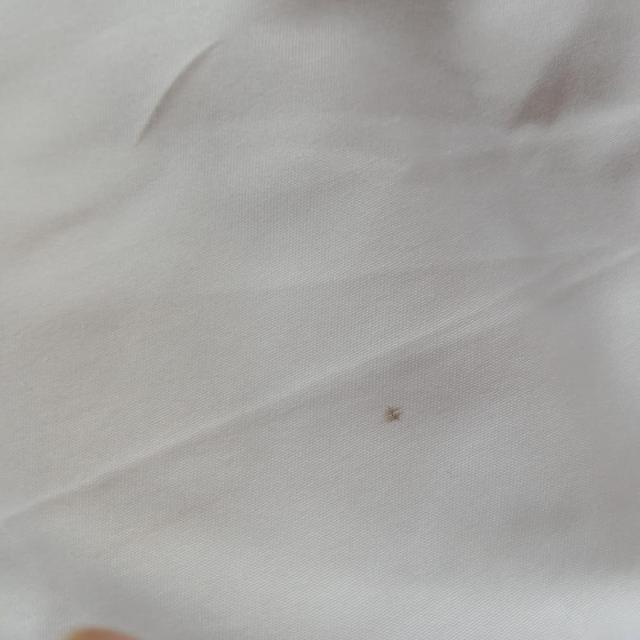stain: (44, 610, 144, 640), (370, 396, 419, 433)
